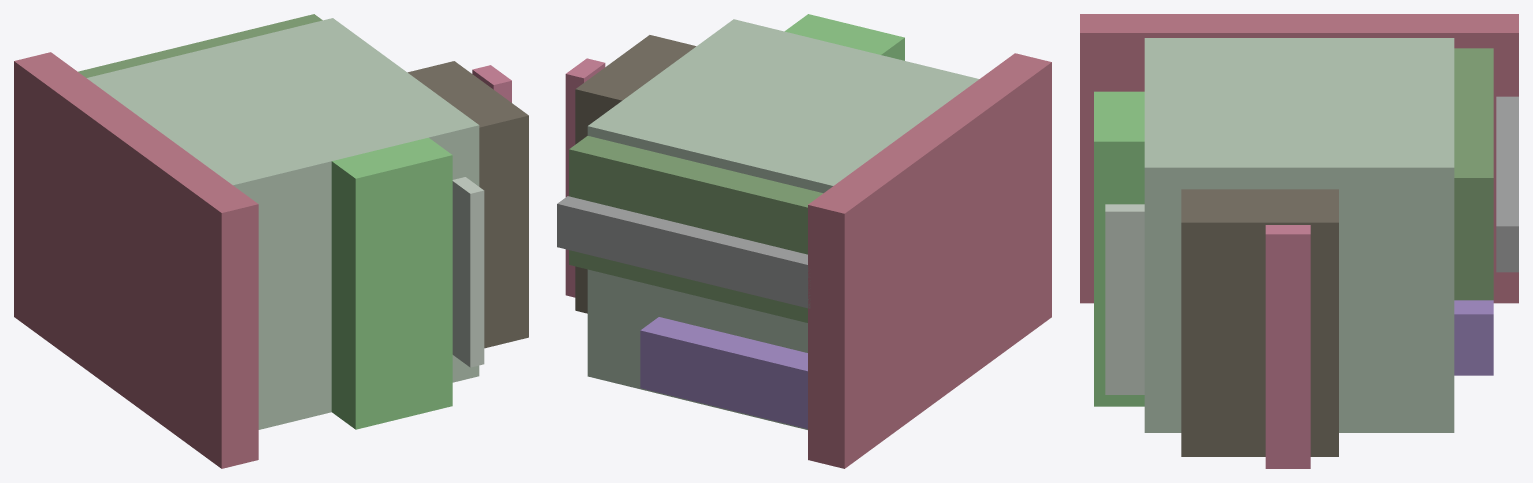
The model's file is 199535_pred.glb.
The picture shows the model from 3 angles, left to right: view 1: azimuth 30°, elevation 25°; view 2: azimuth 150°, elevation 25°; view 3: azimuth 270°, elevation 25°; orthographic projection. The views are drawn at different scales.
Parts seen in each view (by area): view 1: world; view 2: world; view 3: world.
Boxes of the visible parts, left/top/right/bottom form: world: left=14, top=14, right=528, bottom=468; world: left=557, top=14, right=1051, bottom=468; world: left=1080, top=14, right=1518, bottom=468.
Bounding box in the file's own units: 8.2 × 5.3 × 7.8.
